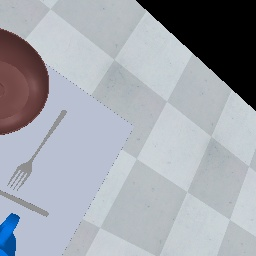Bowl: (1, 27, 51, 135)
Fork: (3, 108, 72, 193)
Mug: (0, 211, 21, 256)
Spoon: (0, 188, 50, 220)
